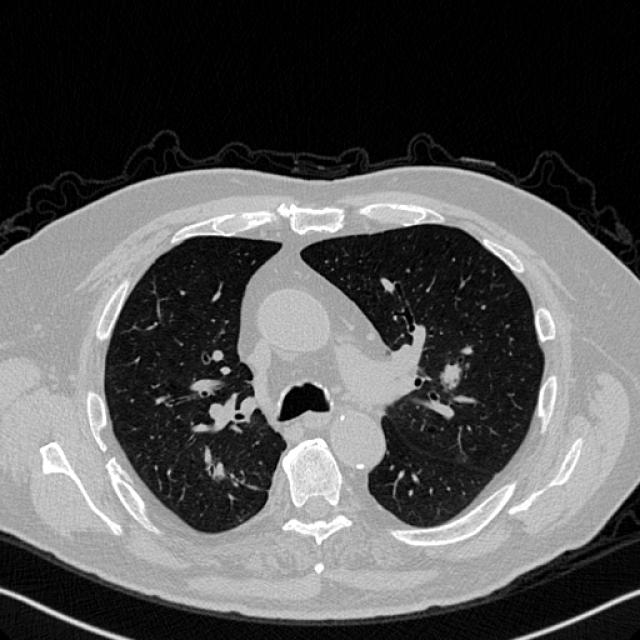nodule: (424, 350, 474, 400)
